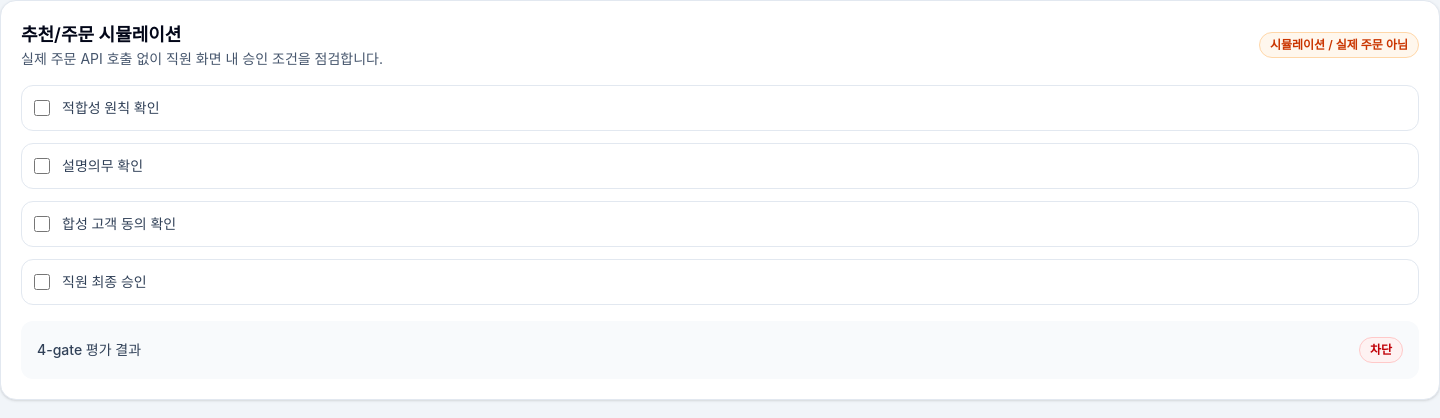
recommendation/order simulation gates › renders the actual-order prohibition badge and gate-driven status
Expected: the text "시뮬레이션 / 실제 주문 아님" is shown, 1259,32 -> 1419,58
Expected: the text "차단" is shown, 1359,337 -> 1403,363
What coordinates should you click on to do the following:
click the checkbox labelled "적합성 원칙 확인"
I would click on:
 (42, 108)
Its box is 34,100 -> 50,116.
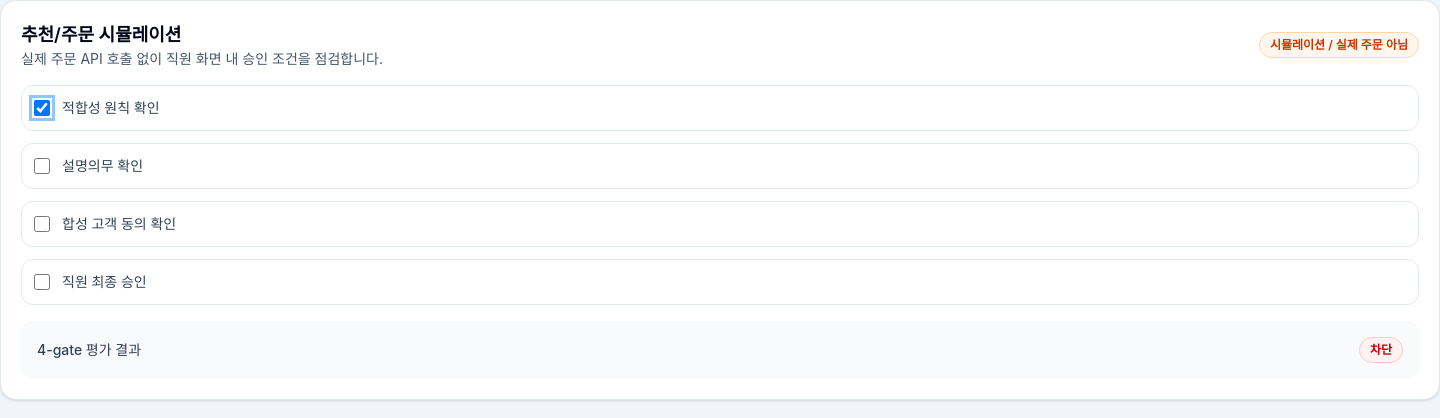
What coordinates should you click on to do the following:
click the checkbox labelled "설명의무 확인"
I would click on:
 (42, 166)
Its box is 34,158 -> 50,174.
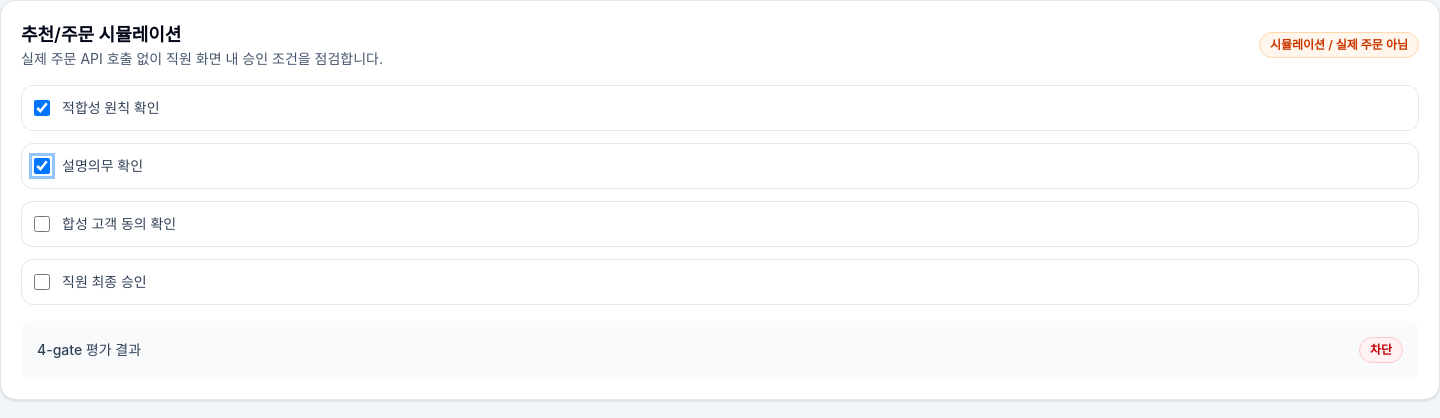
What coordinates should you click on to do the following:
click the checkbox labelled "합성 고객 동의 확인"
I would click on:
 (42, 224)
Its box is 34,216 -> 50,232.
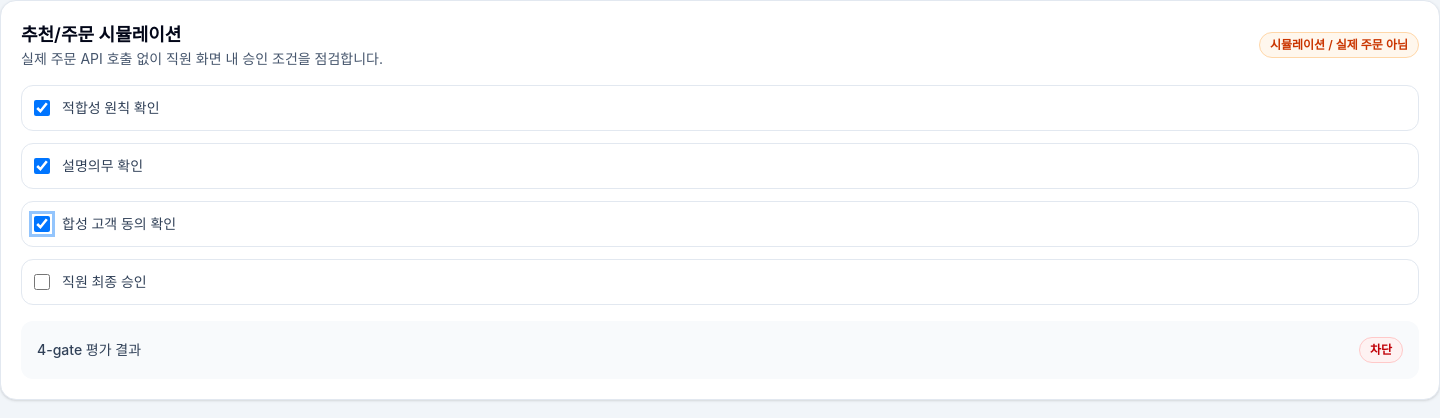
What coordinates should you click on to do the following:
click the checkbox labelled "직원 최종 승인"
I would click on:
 (42, 282)
Its box is 34,274 -> 50,290.
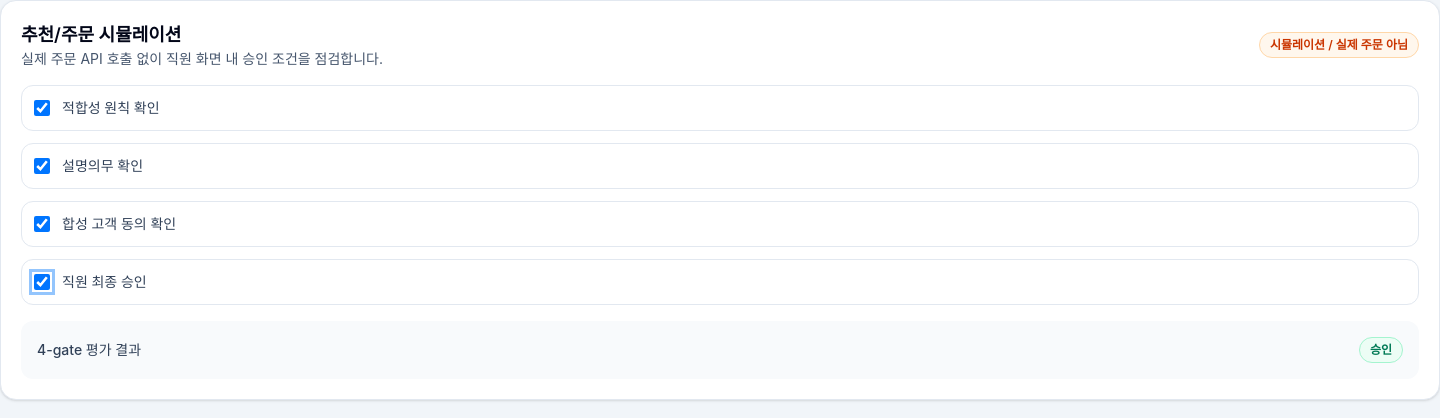
Expected: the text "승인" is shown, 1359,337 -> 1403,363
